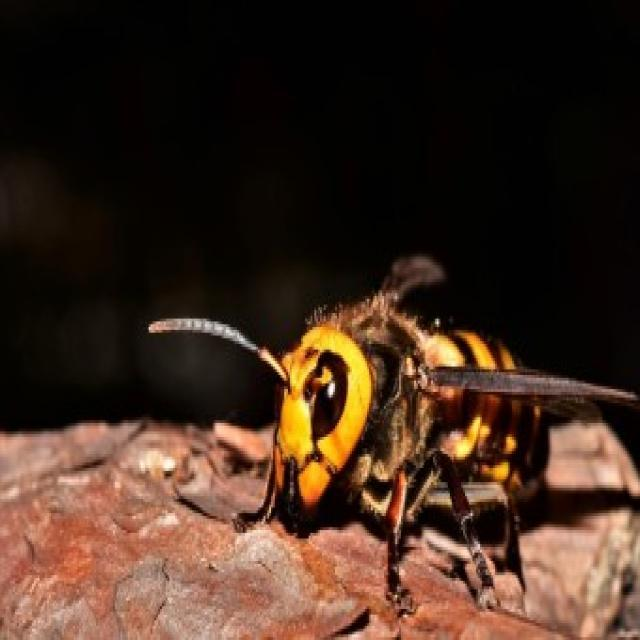Wasp: (135, 236, 636, 601)
